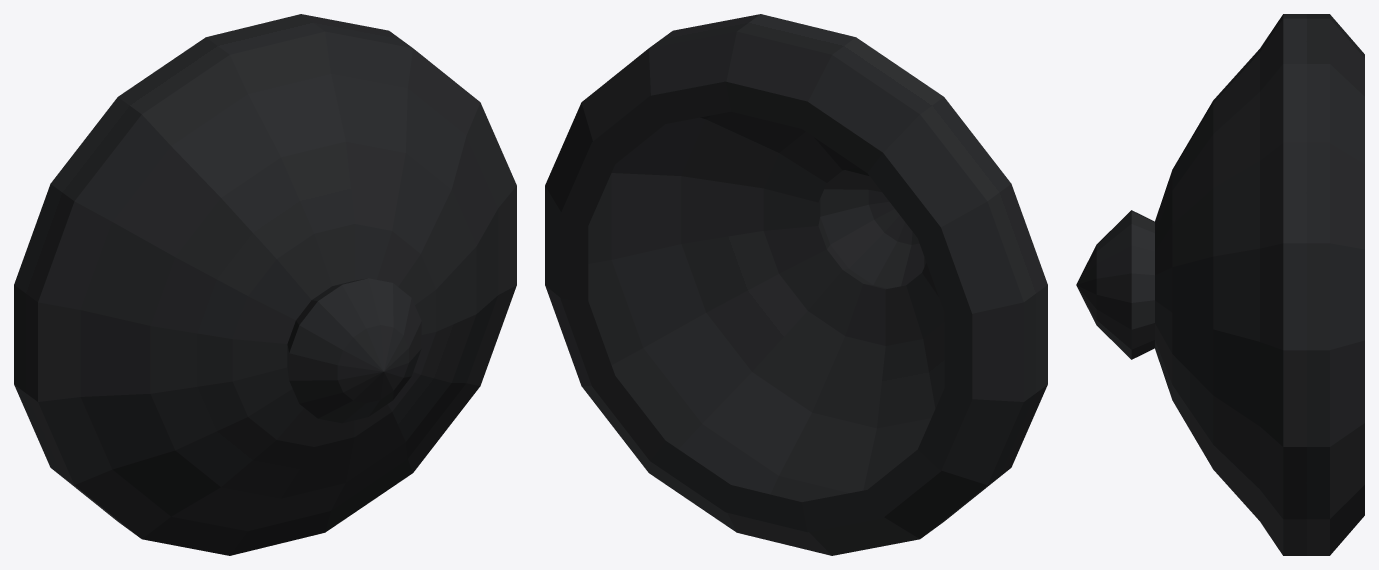
File: decopole_lafluted_cap_s.obj
3 views of the same model, side by side, from view 1: azimuth 30°, elevation 25°; view 2: azimuth 150°, elevation 25°; view 3: azimuth 270°, elevation 25° (orthographic). The views are drawn at different scales.
Visible parts, largest first — view 1: decopole_lafluted_cap_s; view 2: decopole_lafluted_cap_s; view 3: decopole_lafluted_cap_s.
Boxes of the visible parts, x1,y1,x2,y2 form: decopole_lafluted_cap_s: (14,14,516,555); decopole_lafluted_cap_s: (545,14,1047,555); decopole_lafluted_cap_s: (1076,14,1364,555).
Bounding box in the file's own units: 0.5762 × 0.5762 × 0.3094.
